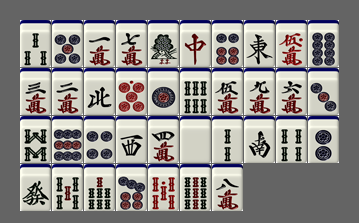0m: (276, 20, 307, 67)
0p: (116, 68, 147, 115)
0s: (148, 164, 179, 211)
1m: (84, 20, 115, 67)
1p: (148, 68, 179, 115)
1s: (148, 20, 179, 67)
1z: (244, 20, 275, 67)
2m: (52, 68, 83, 115)
2p: (308, 116, 339, 163)
2s: (212, 116, 243, 163)
2z: (244, 116, 275, 163)
3m: (20, 68, 51, 115)
3p: (308, 68, 339, 115)
3s: (20, 20, 51, 67)
3z: (116, 116, 147, 163)
4m: (148, 116, 179, 163)
4p: (84, 116, 115, 163)
4s: (276, 116, 307, 163)
4z: (84, 68, 115, 115)
5m: (212, 68, 243, 115)
5p: (52, 20, 83, 67)
5s: (52, 164, 83, 211)
5z: (180, 116, 211, 163)
6m: (276, 68, 307, 115)
6p: (212, 20, 243, 67)
6s: (180, 68, 211, 115)
6z: (20, 164, 51, 211)
7m: (116, 20, 147, 67)
7p: (116, 164, 147, 211)
7s: (84, 164, 115, 211)
7z: (180, 20, 211, 67)
8m: (212, 164, 243, 211)
8p: (308, 20, 339, 67)
8s: (20, 116, 51, 163)
9m: (244, 68, 275, 115)
9p: (52, 116, 83, 163)
9s: (180, 164, 211, 211)
